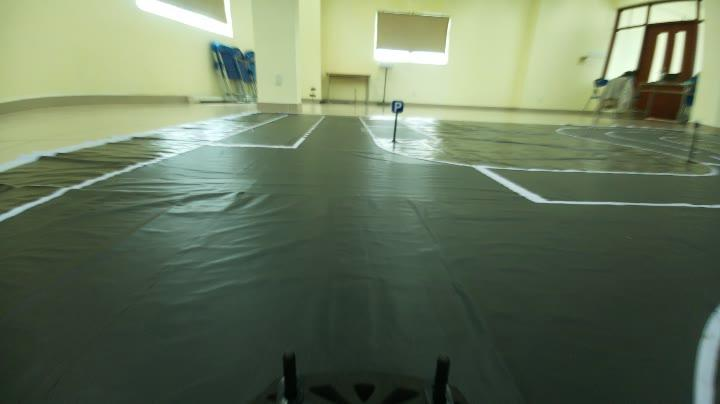parking: (389, 94, 406, 116)
